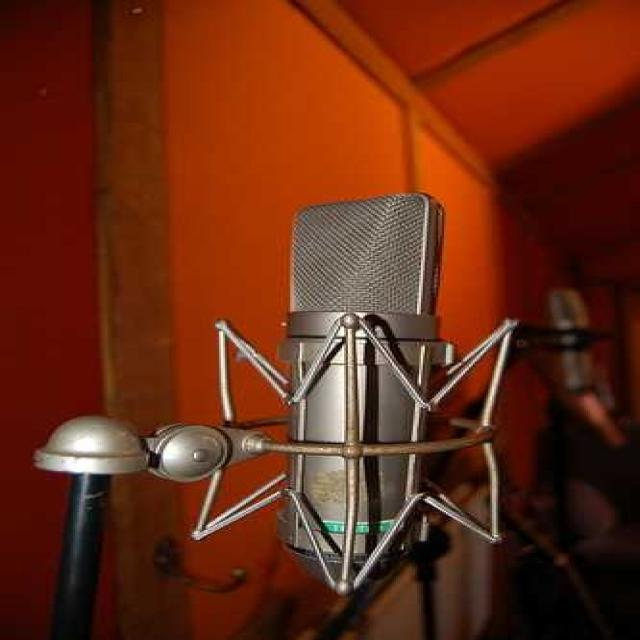microphone: (277, 192, 449, 590), (546, 289, 590, 399)
